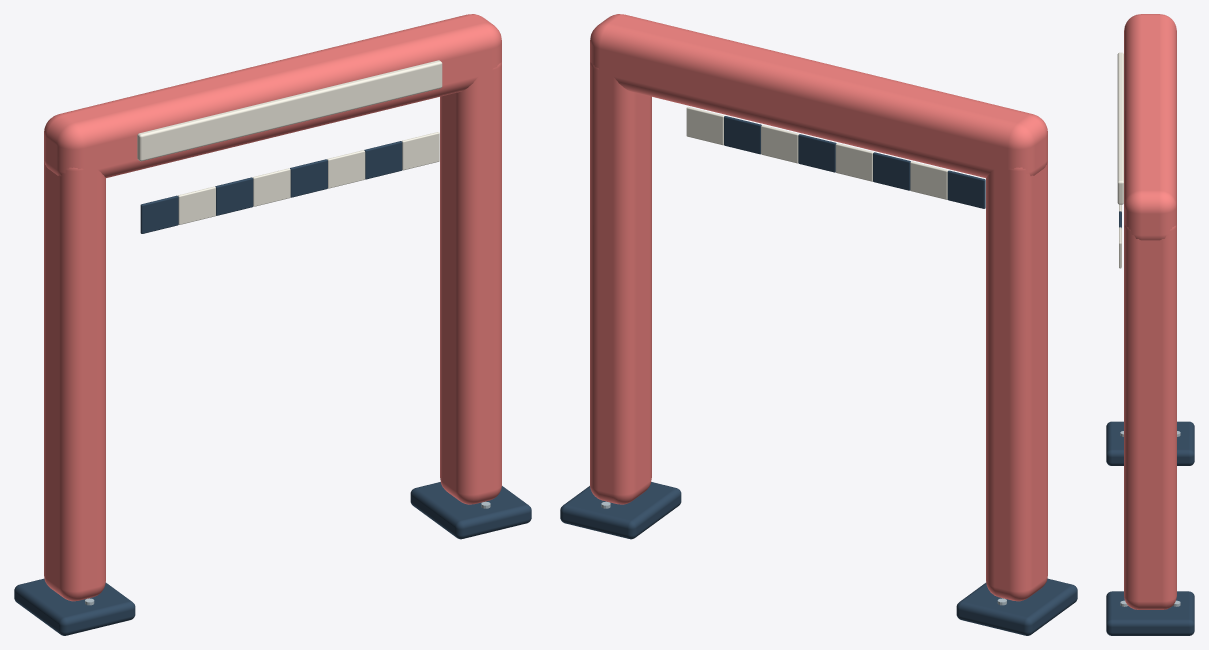
The model's file is party-obstacle-course-party-obstacle-course-finish-arc-c695fbd0__28938.glb.
3 views of the same model, side by side, from view 1: azimuth 30°, elevation 25°; view 2: azimuth 150°, elevation 25°; view 3: azimuth 270°, elevation 25° (orthographic). The views are drawn at different scales.
Parts seen in each view (by area): view 1: party-obstacle-course-finish-arch; view 2: party-obstacle-course-finish-arch; view 3: party-obstacle-course-finish-arch.
Part boxes in pixels (x1=…): party-obstacle-course-finish-arch: x1=14, y1=14, x2=531, y2=635; party-obstacle-course-finish-arch: x1=560, y1=14, x2=1077, y2=635; party-obstacle-course-finish-arch: x1=1106, y1=14, x2=1194, y2=635.
Bounding box in the file's own units: 4.05 × 4.05 × 0.75.
